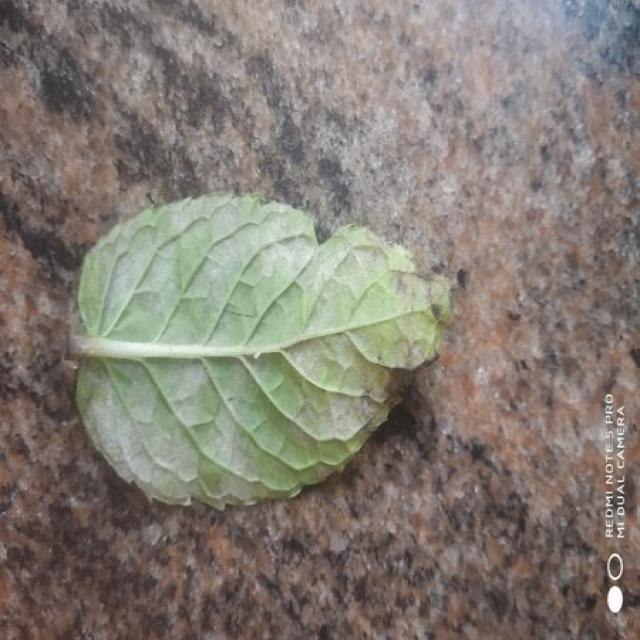mint: (72, 194, 452, 508)
